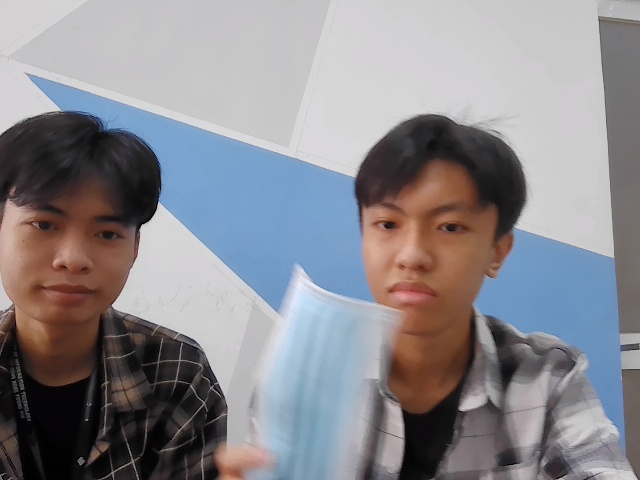human: (356, 111, 526, 333), (1, 110, 162, 332)
mask: (243, 262, 397, 480)
